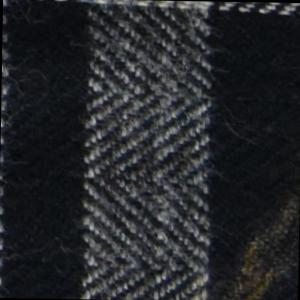Oil Stain: (228, 190, 299, 300)
